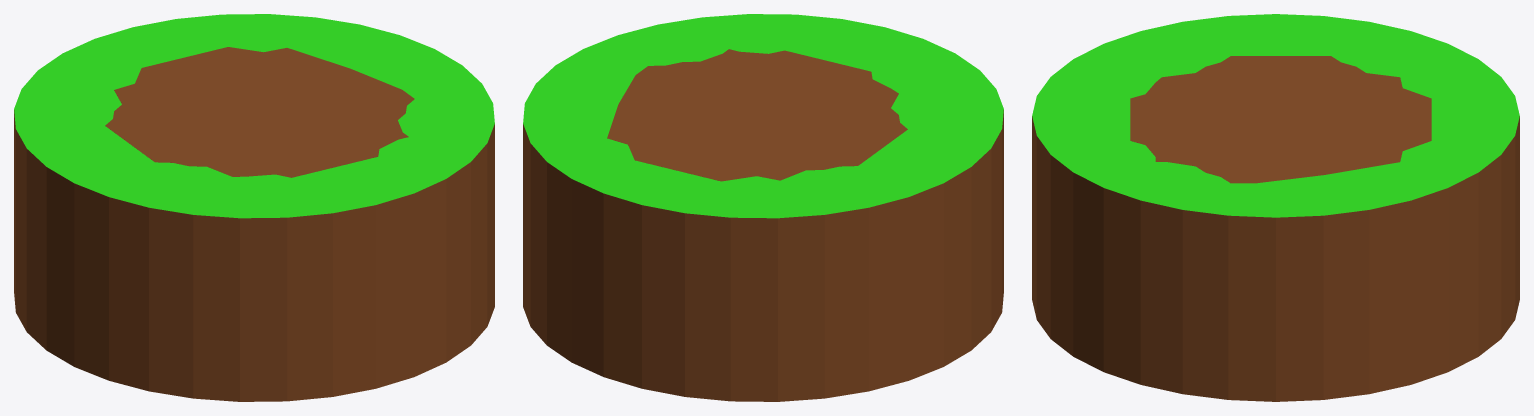
Rendered from bas 1.fbx.
3 views of the same model, side by side, from view 1: azimuth 30°, elevation 25°; view 2: azimuth 150°, elevation 25°; view 3: azimuth 270°, elevation 25° (orthographic).
Parts seen in each view (by area): view 1: Cube.001, Icosphere; view 2: Cube.001, Icosphere; view 3: Cube.001, Icosphere.
Part boxes in pixels (x1=…): Cube.001: x1=14, y1=14, x2=494, y2=401; Icosphere: x1=105, y1=47, x2=414, y2=177; Cube.001: x1=523, y1=14, x2=1003, y2=401; Icosphere: x1=607, y1=49, x2=907, y2=181; Cube.001: x1=1032, y1=14, x2=1519, y2=401; Icosphere: x1=1130, y1=56, x2=1431, y2=183.
Bounding box in the file's own units: 286 × 121 × 290.
